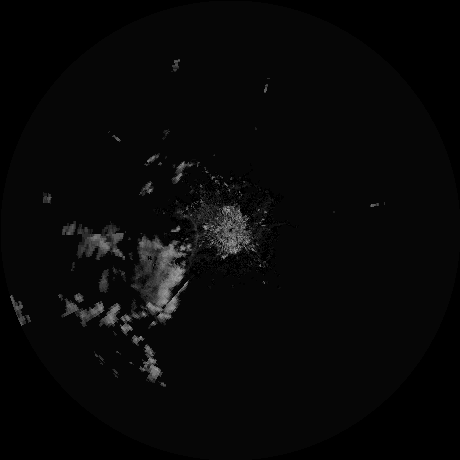frontgust: (176, 213, 200, 274)
